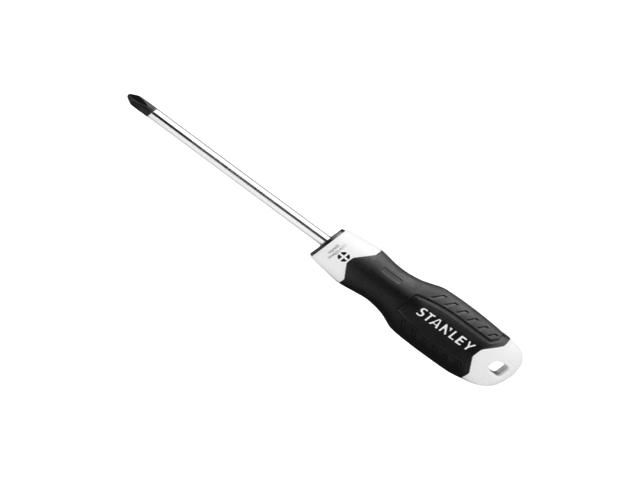Screwdriver: (128, 95, 522, 385)
